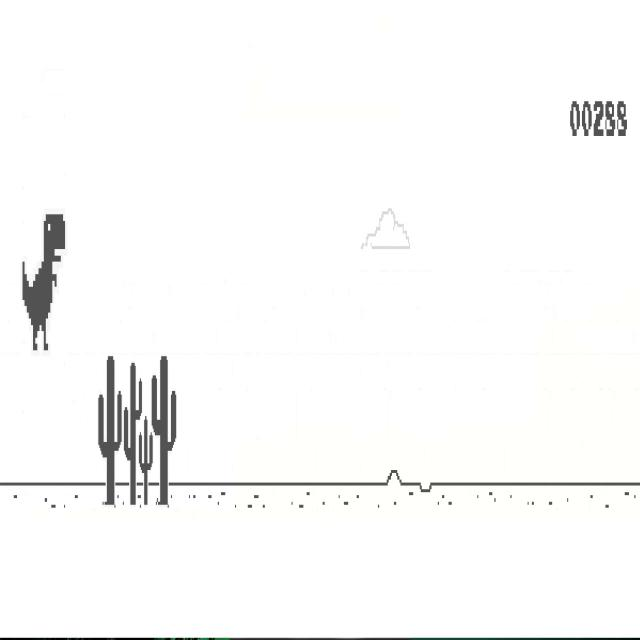cacto: (151, 354, 177, 507), (98, 353, 122, 506), (123, 361, 143, 506), (138, 414, 154, 507)
dino: (22, 212, 66, 352)
